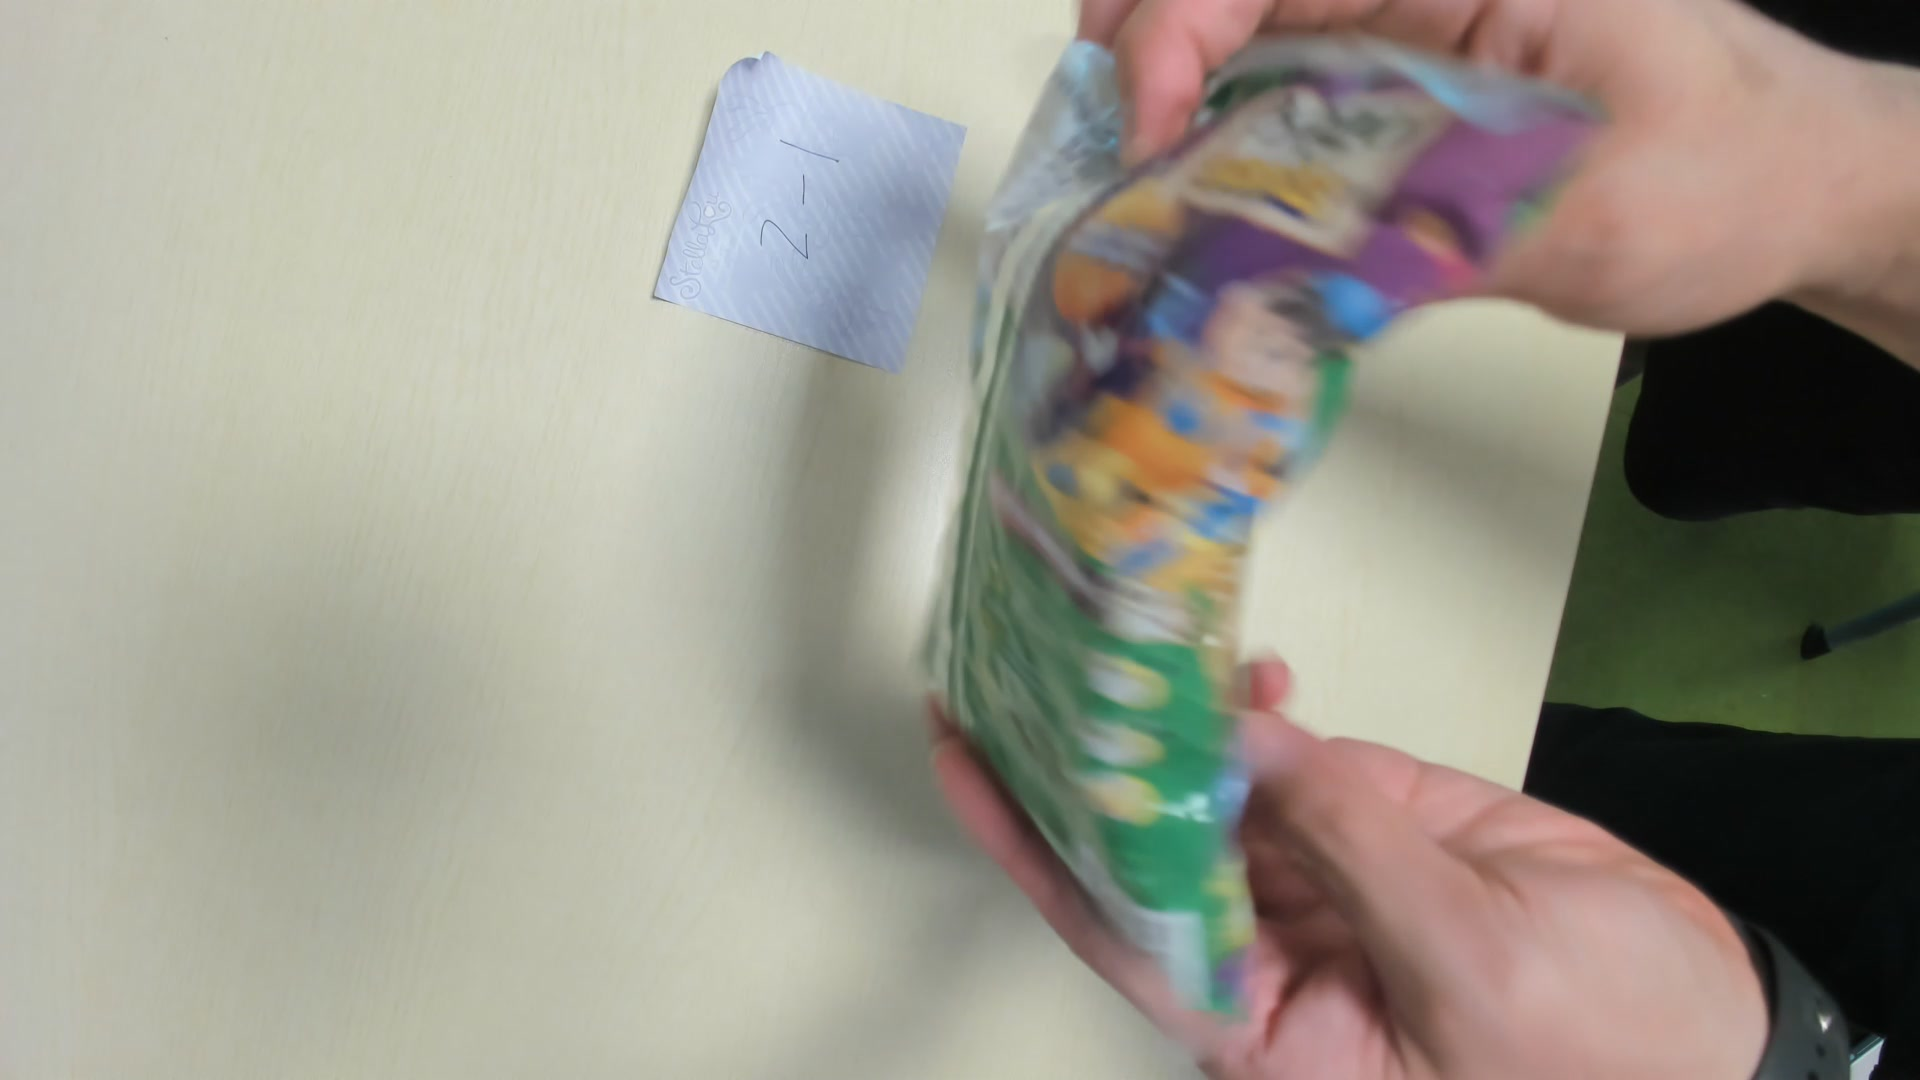Pasta_200-299g_Halal_NonHealthy: (915, 3, 1607, 1035)
